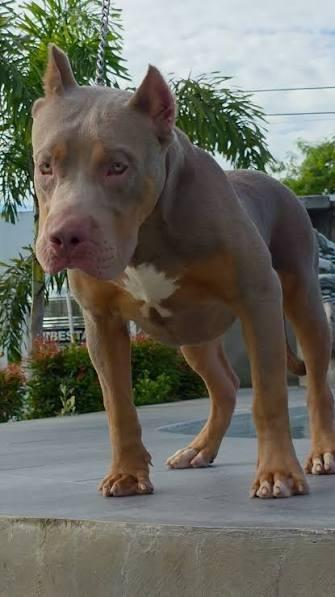adult_dog: (27, 42, 335, 501)
